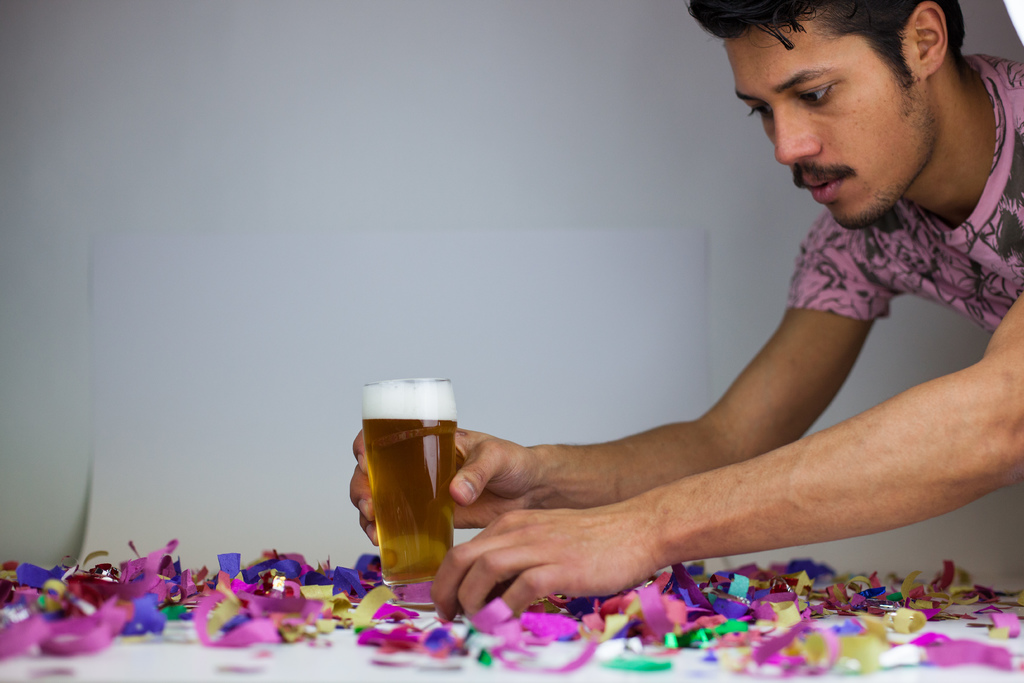Beer: (357, 380, 458, 584)
